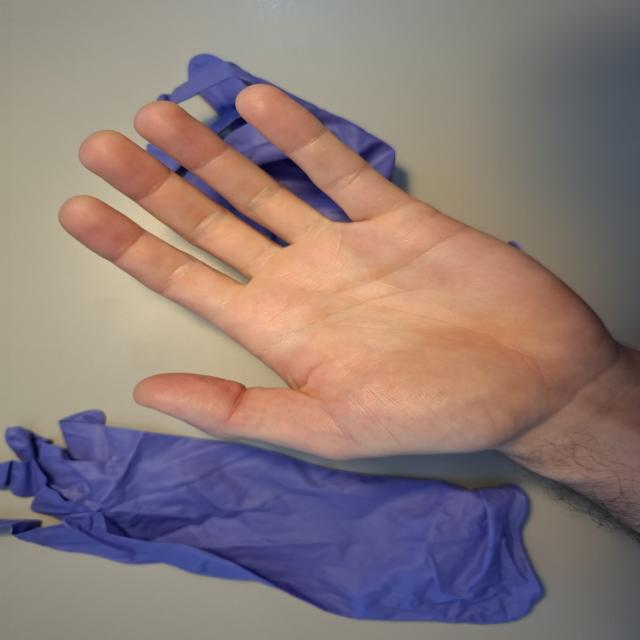glove_off: (55, 80, 621, 473)
